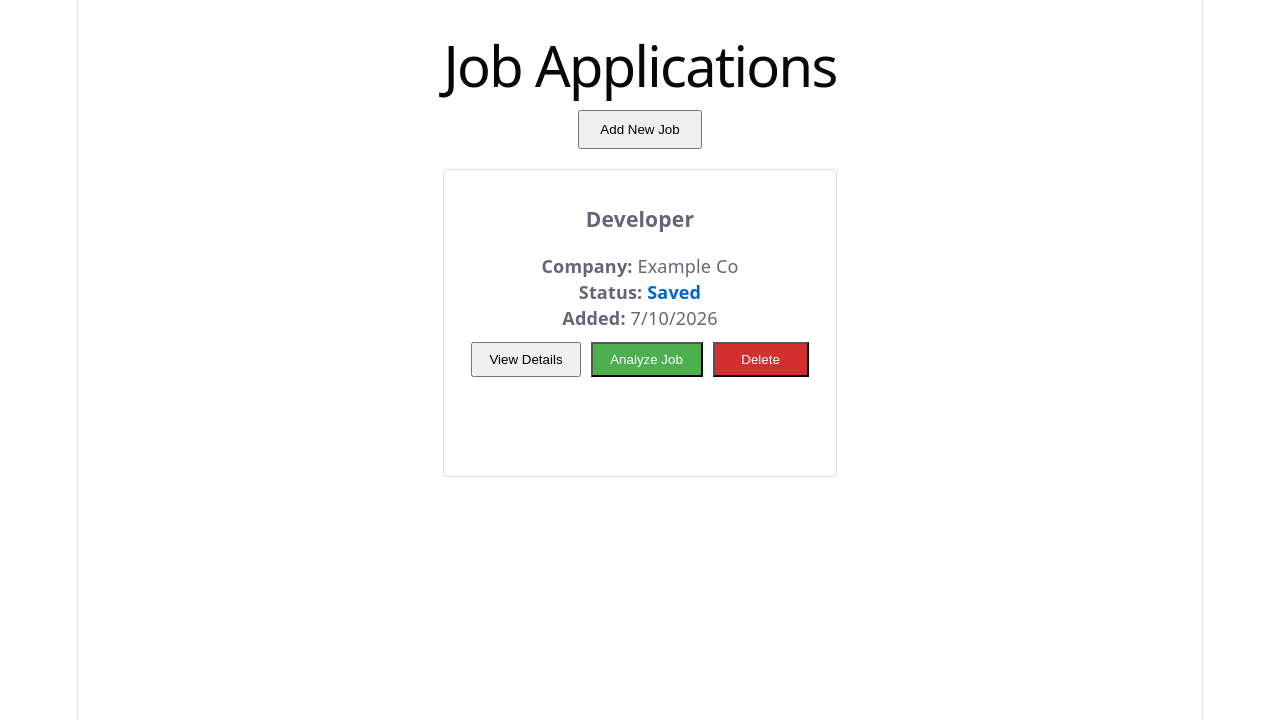
JobListPage feedback › shows analysis success and a warning when the background refresh fails
Click the button "Analyze Job" at point(646, 359), box [590, 342, 702, 377]
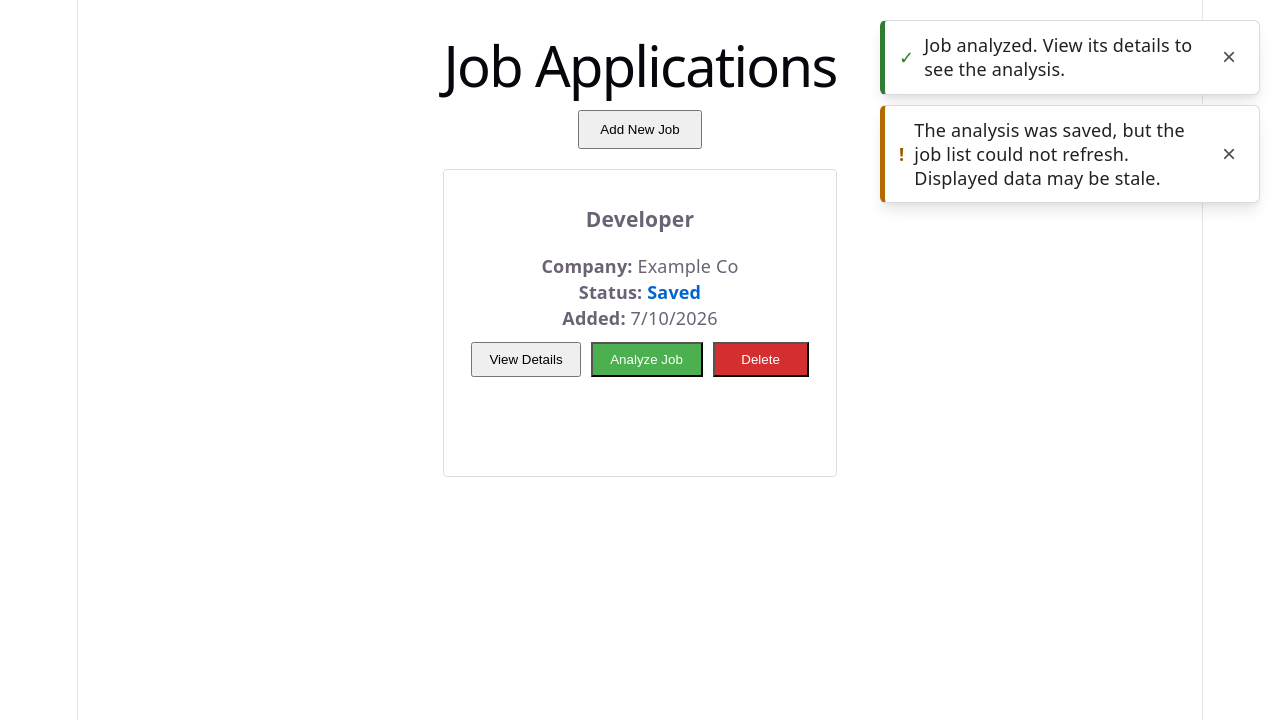
Expected: the heading "Developer" is shown, [586, 204, 694, 233]
Now the text "Job analyzed. View its details to see the analysis." is shown, box [924, 33, 1203, 82]
Now the text "job list could not refresh" is shown, box [914, 118, 1185, 190]
